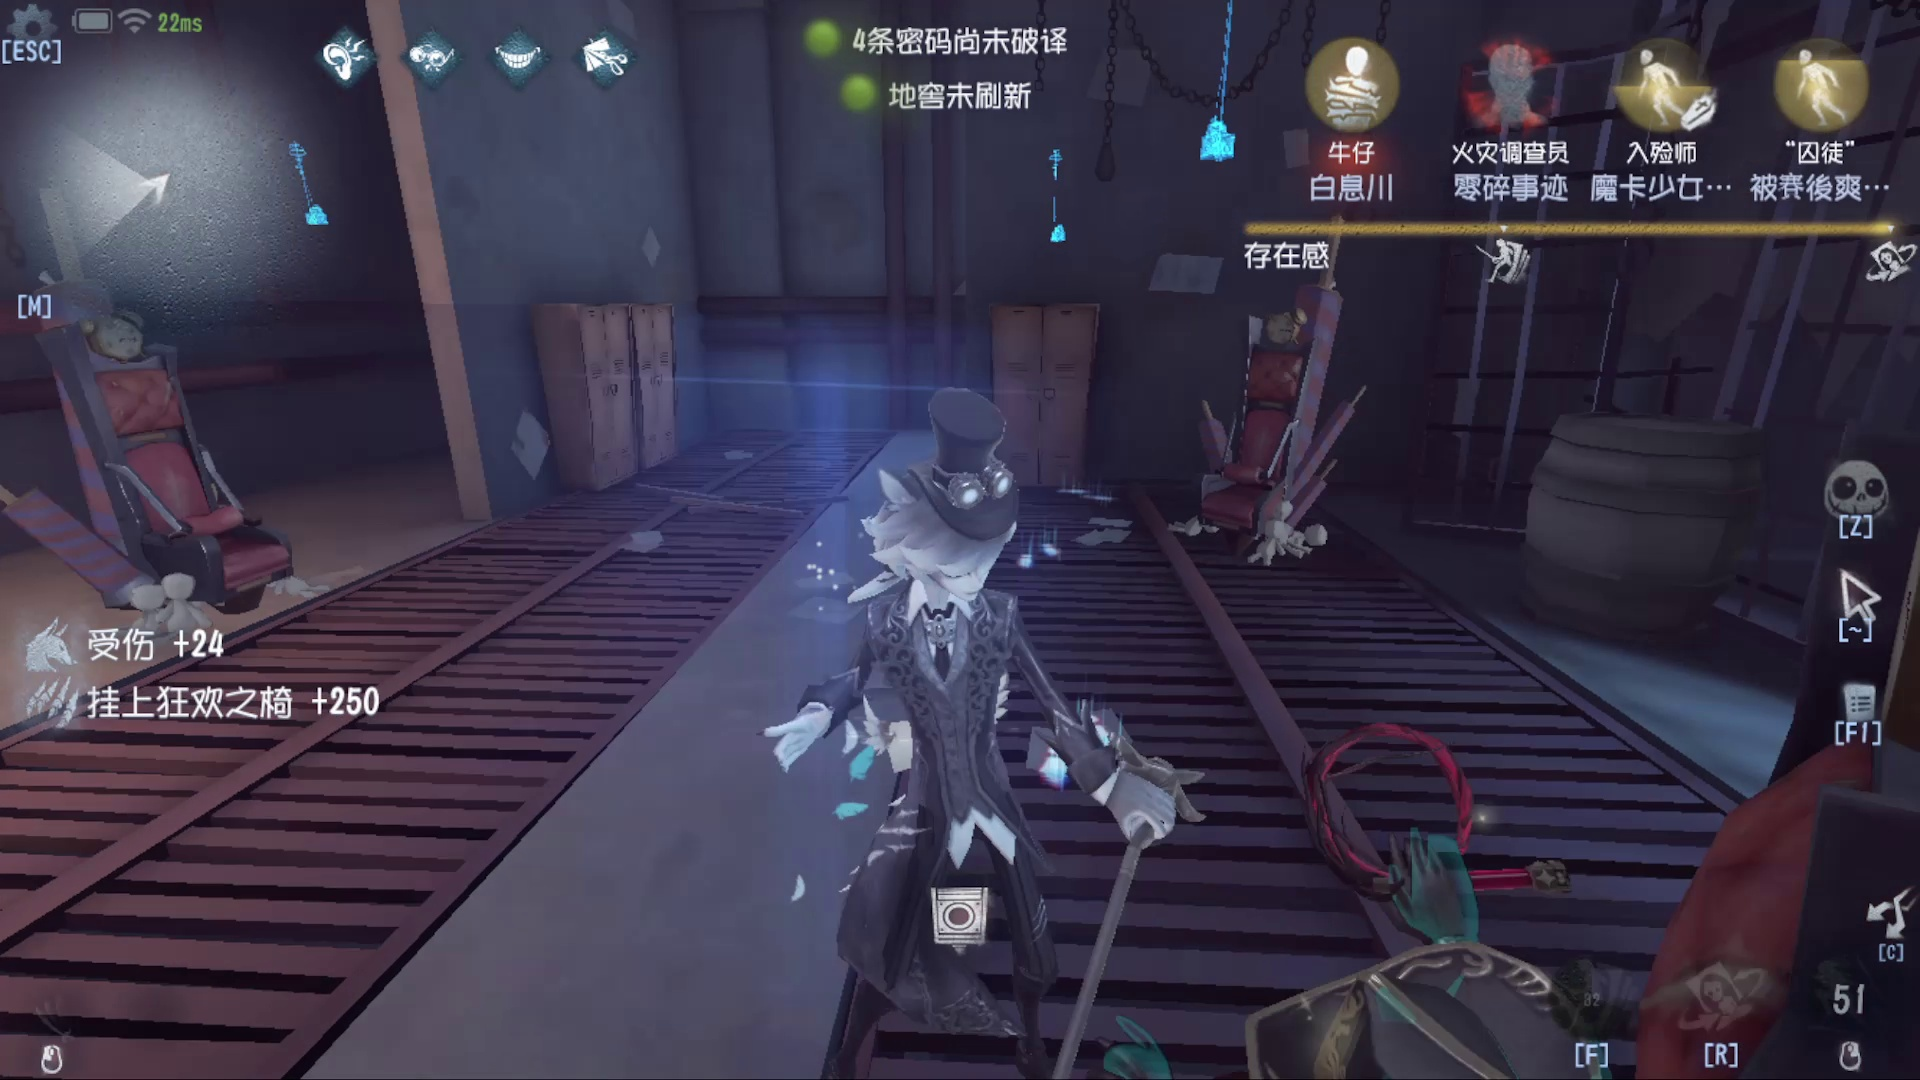狂欢之椅: (17, 265, 324, 632), (1188, 249, 1371, 571)
